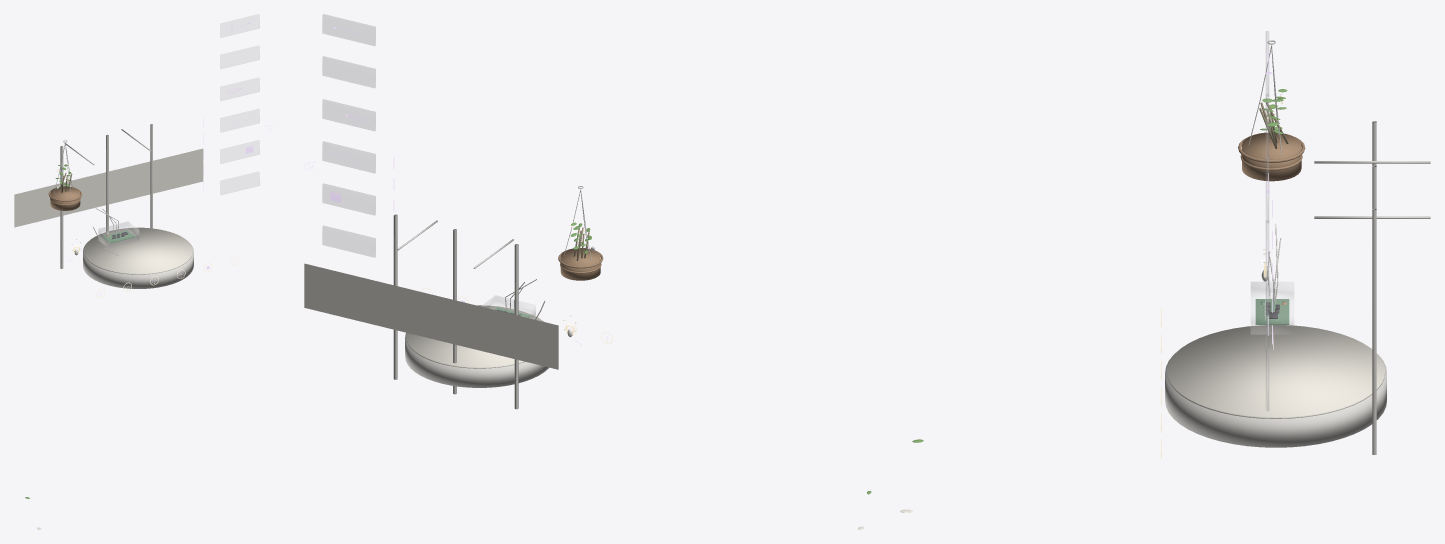
File: station-2-bioelectric-mediation.glb
3 renders of one model, left to right at view 1: azimuth 30°, elevation 25°; view 2: azimuth 150°, elevation 25°; view 3: azimuth 270°, elevation 25°, orthographic. The views are drawn at different scales.
Parts seen in each view (by area): view 1: Env_Backdrop, Pedestal_Top, Pedestal_Base, Bionosifier_Box, Plant_Pot, Panel_05, Panel_01, Panel_04, Panel_02, Panel_03, Panel_06, Env_Frame_1; view 2: Env_Backdrop, Pedestal_Base, Pedestal_Top, Panel_04, Panel_06, Panel_05, Panel_01, Panel_02, Panel_03, Plant_Pot; view 3: Pedestal_Top, Pedestal_Base, Plant_Pot, Bionosifier_Box, Env_Frame_3, Bionosifier_Board.
Part boxes in pixels (<box>): Env_Backdrop: <box>14,148,203,227</box>; Pedestal_Top: <box>83,227,192,274</box>; Pedestal_Base: <box>83,243,193,288</box>; Bionosifier_Box: <box>98,221,138,247</box>; Plant_Pot: <box>50,186,80,210</box>; Panel_05: <box>220,140,259,163</box>; Panel_01: <box>220,14,259,37</box>; Panel_04: <box>220,109,259,132</box>; Panel_02: <box>220,45,259,68</box>; Panel_03: <box>220,77,259,100</box>; Panel_06: <box>220,171,259,194</box>; Env_Frame_1: <box>60,146,63,268</box>; Env_Backdrop: <box>304,263,558,369</box>; Pedestal_Base: <box>405,332,548,387</box>; Pedestal_Top: <box>406,305,543,368</box>; Panel_04: <box>322,141,375,173</box>; Panel_06: <box>322,226,375,257</box>; Panel_05: <box>322,183,375,215</box>; Panel_01: <box>322,14,375,45</box>; Panel_02: <box>322,56,375,87</box>; Panel_03: <box>322,99,375,130</box>; Plant_Pot: <box>560,248,600,280</box>; Pedestal_Top: <box>1167,325,1385,418</box>; Pedestal_Base: <box>1165,354,1386,447</box>; Plant_Pot: <box>1242,132,1301,181</box>; Bionosifier_Box: <box>1251,282,1293,334</box>; Env_Frame_3: <box>1372,209,1376,454</box>; Bionosifier_Board: <box>1255,299,1289,324</box>.
Bounding box in the file's own units: 21.29 × 22.61 × 14.58.
